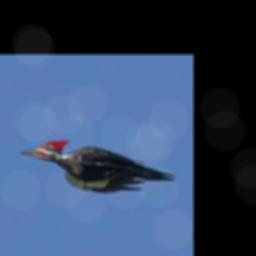Woodpecker: (20, 139, 176, 192)
